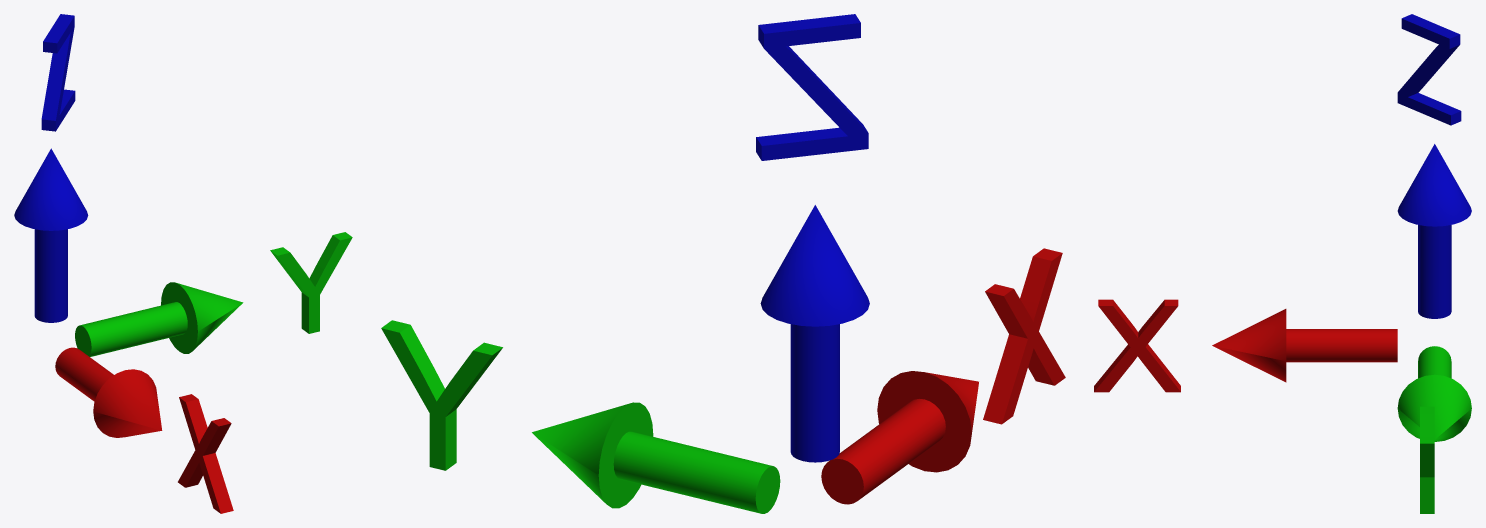
The model's file is 3d_arrow.dae.
3 views of the same model, side by side, from view 1: azimuth 30°, elevation 25°; view 2: azimuth 150°, elevation 25°; view 3: azimuth 270°, elevation 25° (orthographic). The views are drawn at different scales.
Visible parts, largest first — view 1: arrow_z, arrow_y, arrow_x, text_x, text_y, text_z; view 2: arrow_z, arrow_y, arrow_x, text_z, text_x, text_y; view 3: arrow_z, arrow_x, arrow_y, text_x, text_z, text_y.
Part boxes in pixels (x1,y1,x2,y2): arrow_z: [14, 148, 88, 322]; arrow_y: [75, 282, 243, 356]; arrow_x: [55, 347, 162, 437]; text_x: [178, 394, 233, 513]; text_y: [270, 232, 352, 333]; text_z: [41, 14, 75, 131]; arrow_z: [760, 205, 869, 462]; arrow_y: [532, 402, 780, 513]; arrow_x: [821, 371, 978, 504]; text_z: [756, 14, 868, 160]; text_x: [983, 248, 1065, 424]; text_y: [381, 320, 502, 470]; arrow_z: [1397, 144, 1471, 318]; arrow_x: [1212, 309, 1397, 382]; arrow_y: [1397, 346, 1471, 441]; text_x: [1094, 299, 1180, 392]; text_z: [1397, 14, 1461, 125]; text_y: [1420, 406, 1434, 513].
Bounding box in the file's own units: 0.0509 × 0.0509 × 0.0538.
